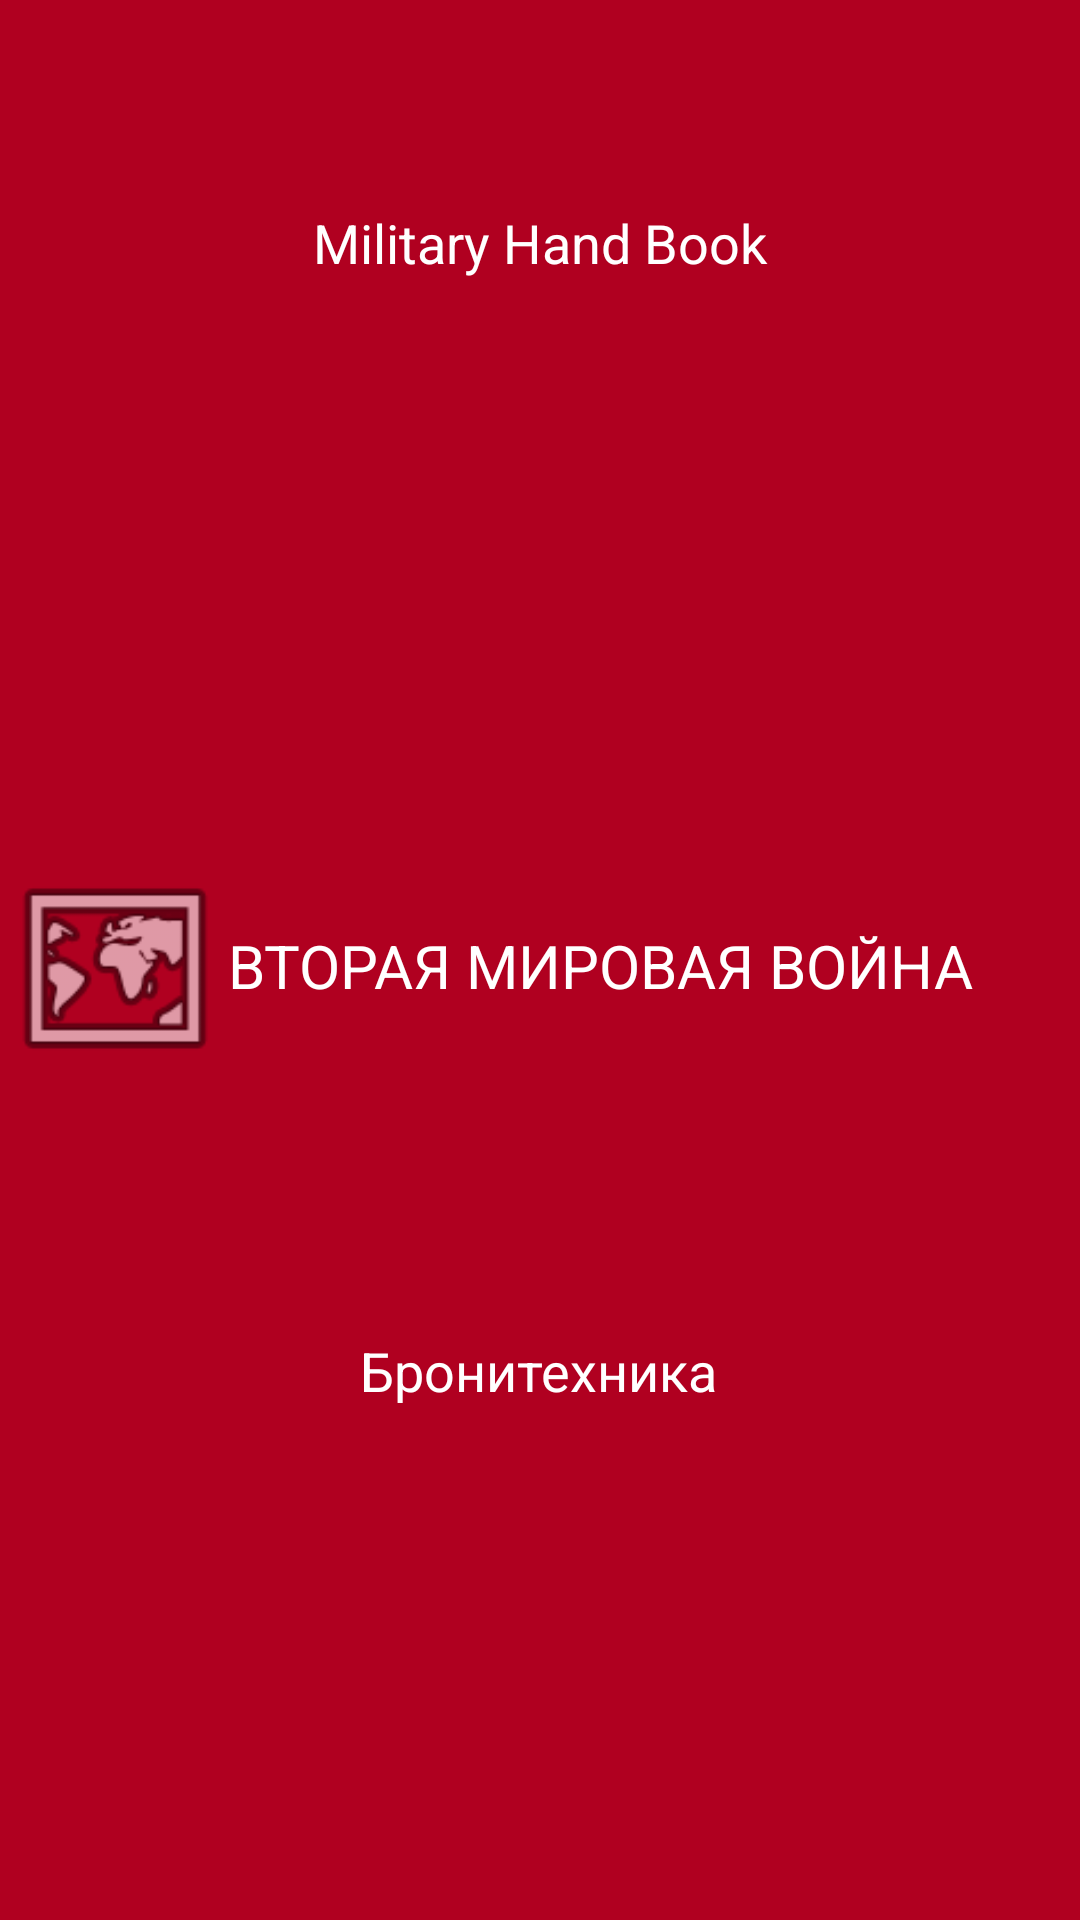

Named icons in this screenshot (1080×1920) and their bounding boxes, (x1, y1, x2, y2):
mapmode: (24, 888, 206, 1049)
